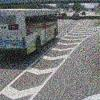buses: (0, 8, 61, 55)
